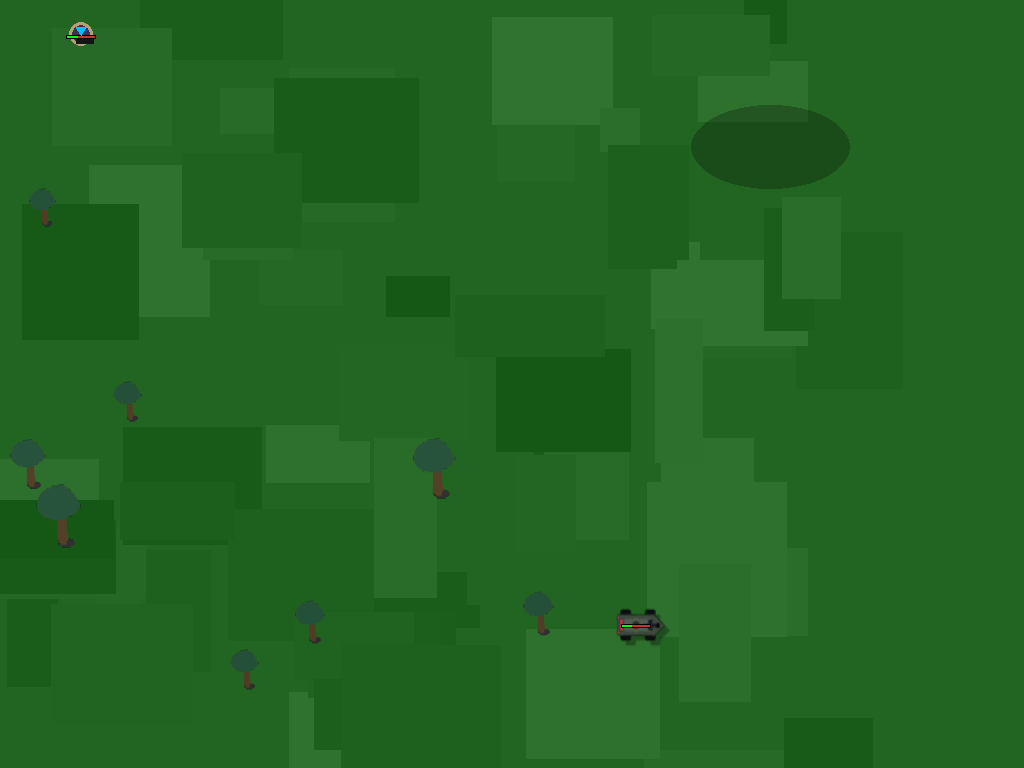ArmoredCar: (615, 602, 657, 644)
KirovAirship: (623, 0, 797, 174)
RocketTrooper: (61, 15, 99, 53)
